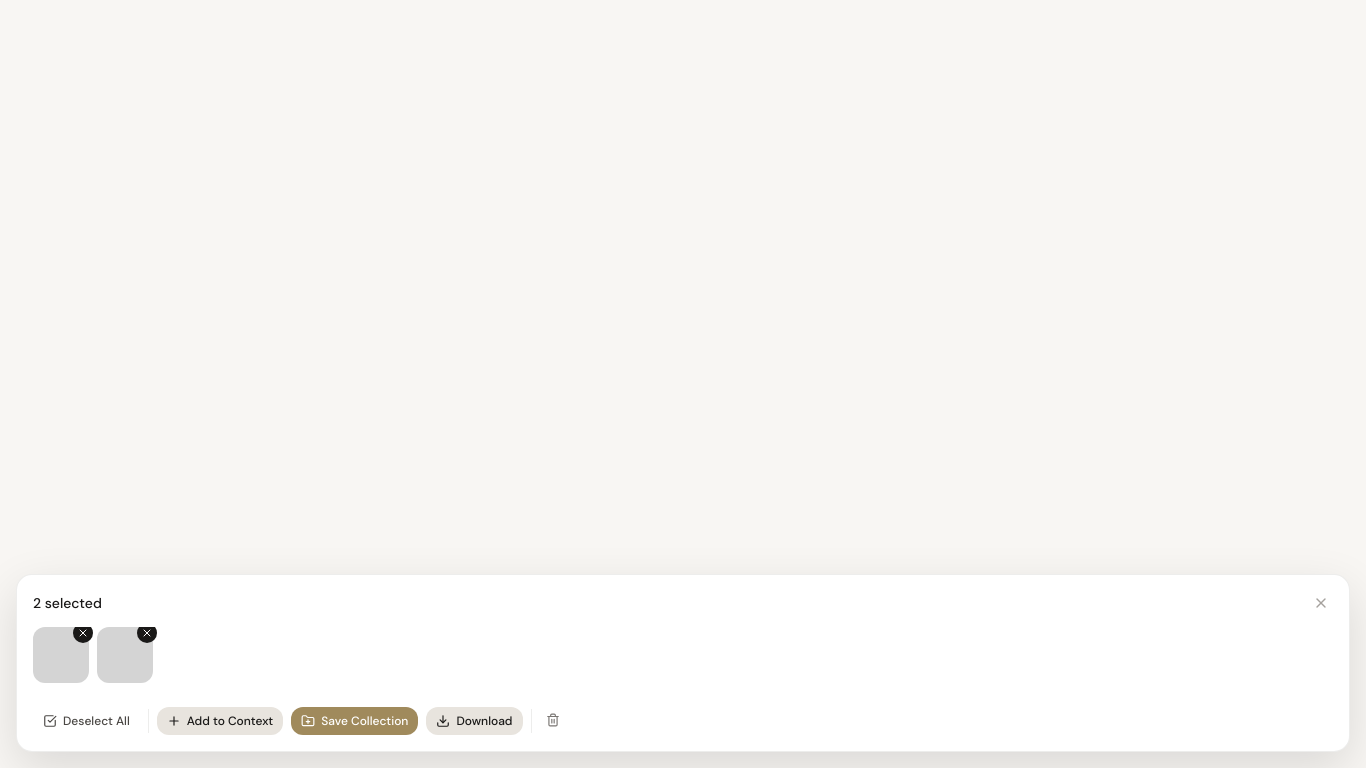
Test case: SelectionTray › collection dialog › should show image count in dialog
Click the button "Save Collection" at (355, 721), box [291,707,418,735]
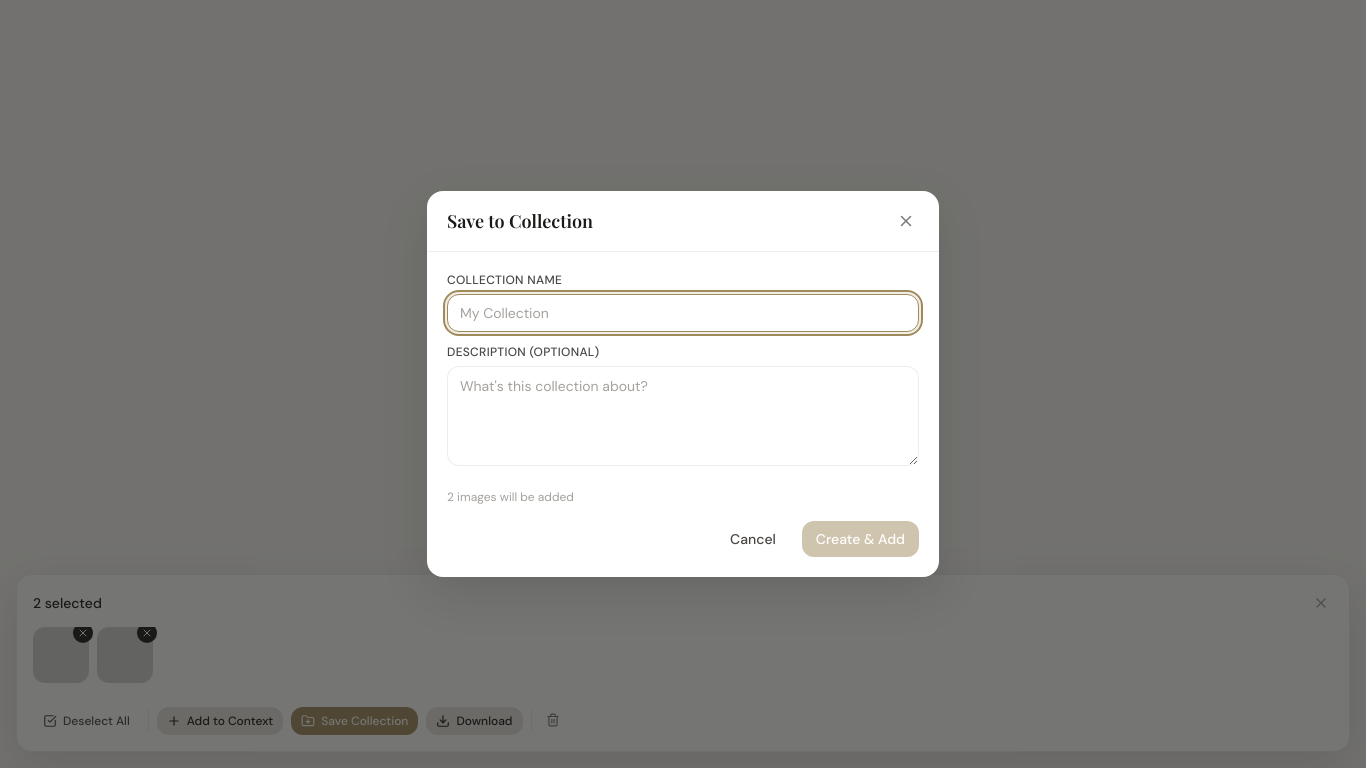
Expected: the text "2 images will be added" is shown, [447,489,574,505]
